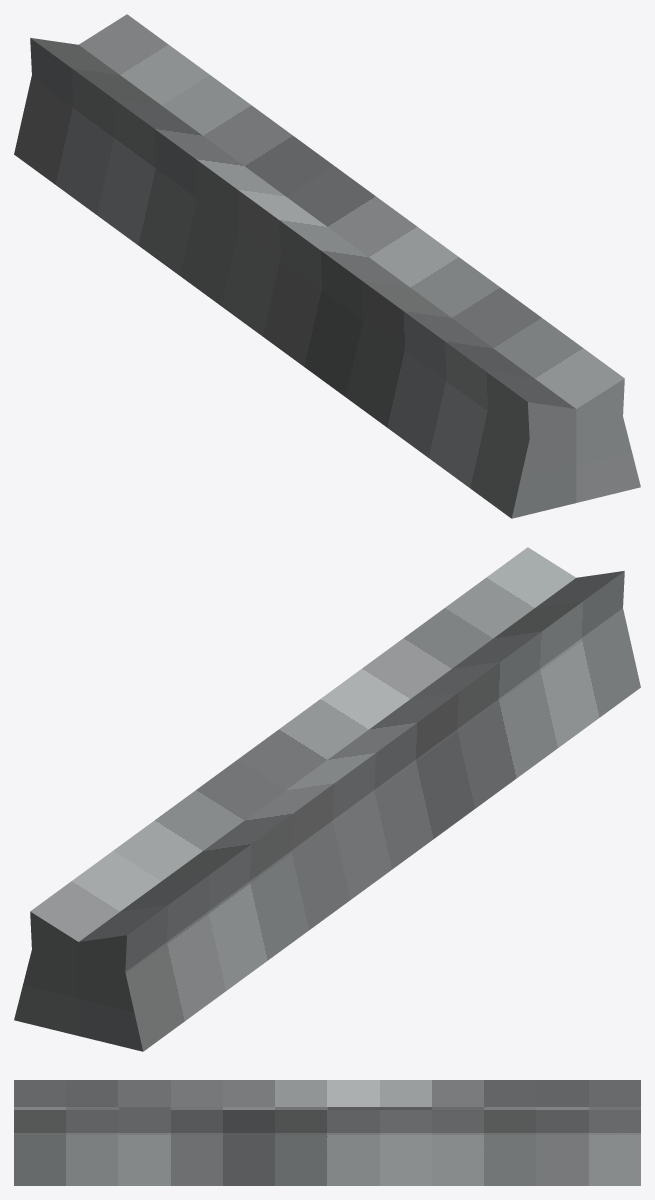
Rendered from rels.fbx.
3 renders of one model, top to bottom at view 1: azimuth 30°, elevation 25°; view 2: azimuth 150°, elevation 25°; view 3: azimuth 270°, elevation 25°, orthographic. The views are drawn at different scales.
Visible parts, largest first — view 1: beveled_cuboid; view 2: beveled_cuboid; view 3: beveled_cuboid.
Boxes of the visible parts, x1,y1,x2,y2 form: beveled_cuboid: (14,14,640,518); beveled_cuboid: (14,547,640,1051); beveled_cuboid: (14,1080,640,1185).
Bounding box in the file's own units: 11.25 × 9.38 × 75.
Materials: 1 (1 with a texture image).
